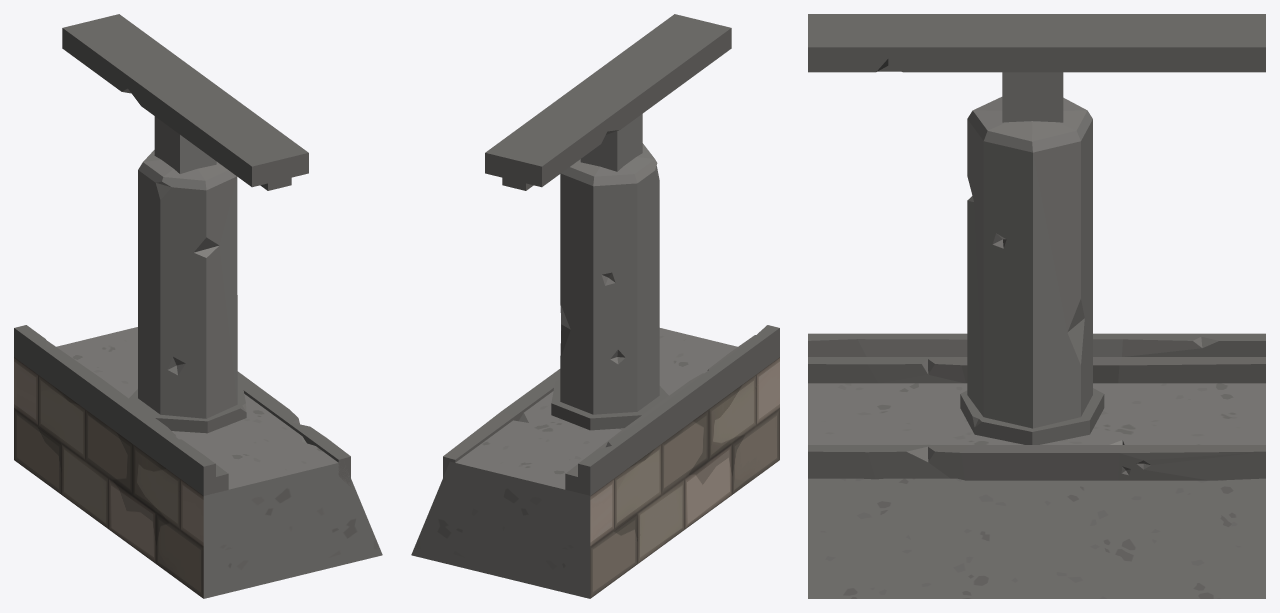
File: SM_Bld_Tunnel_Curved_Wall_02.fbx
3 renders of one model, left to right at view 1: azimuth 30°, elevation 25°; view 2: azimuth 150°, elevation 25°; view 3: azimuth 270°, elevation 25°, orthographic. The views are drawn at different scales.
Parts seen in each view (by area): view 1: SM_Bld_Tunnel_Curved_Wall_02; view 2: SM_Bld_Tunnel_Curved_Wall_02; view 3: SM_Bld_Tunnel_Curved_Wall_02.
Boxes of the visible parts, x1=… form: SM_Bld_Tunnel_Curved_Wall_02: x1=14, y1=14, x2=382, y2=598; SM_Bld_Tunnel_Curved_Wall_02: x1=411, y1=14, x2=779, y2=598; SM_Bld_Tunnel_Curved_Wall_02: x1=808, y1=14, x2=1265, y2=598.
Bounding box in the file's own units: 136 × 306 × 250.
